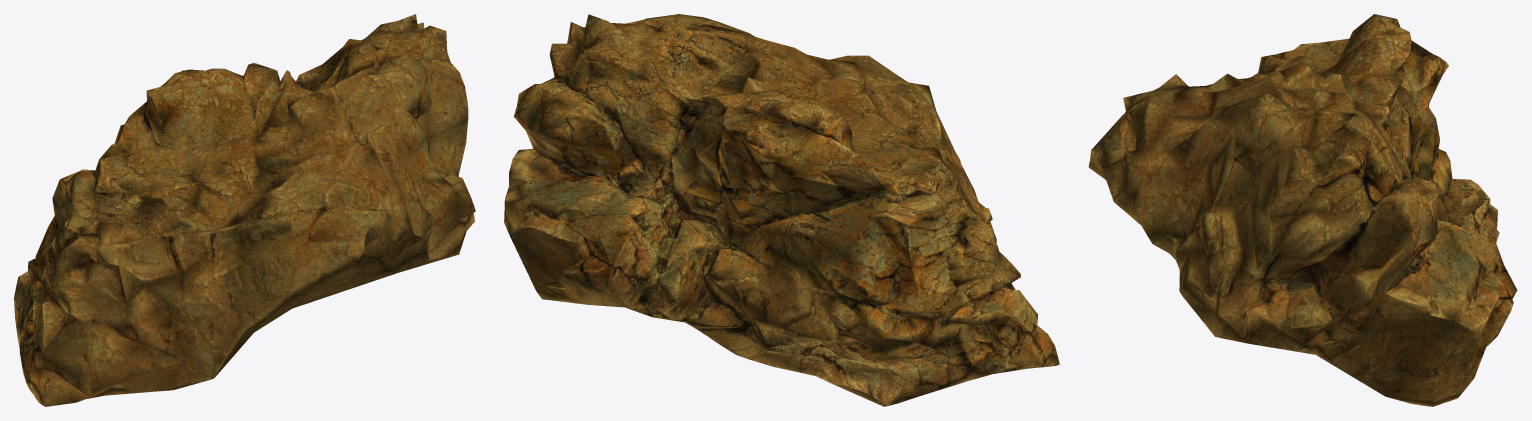
Rendered from node_sulfur_0.glb.
The picture shows the model from 3 angles, left to right: view 1: azimuth 30°, elevation 25°; view 2: azimuth 150°, elevation 25°; view 3: azimuth 270°, elevation 25°; orthographic projection. The views are drawn at different scales.
Visible parts, largest first — view 1: boulder_01; view 2: boulder_01; view 3: boulder_01.
Part boxes in pixels (x1,y1,x2,y2): boulder_01: (14,14,475,406); boulder_01: (504,14,1059,406); boulder_01: (1088,14,1517,406).
Bounding box in the file's own units: 1.82 × 0.9954 × 1.27.
1 material, 1 textured.
